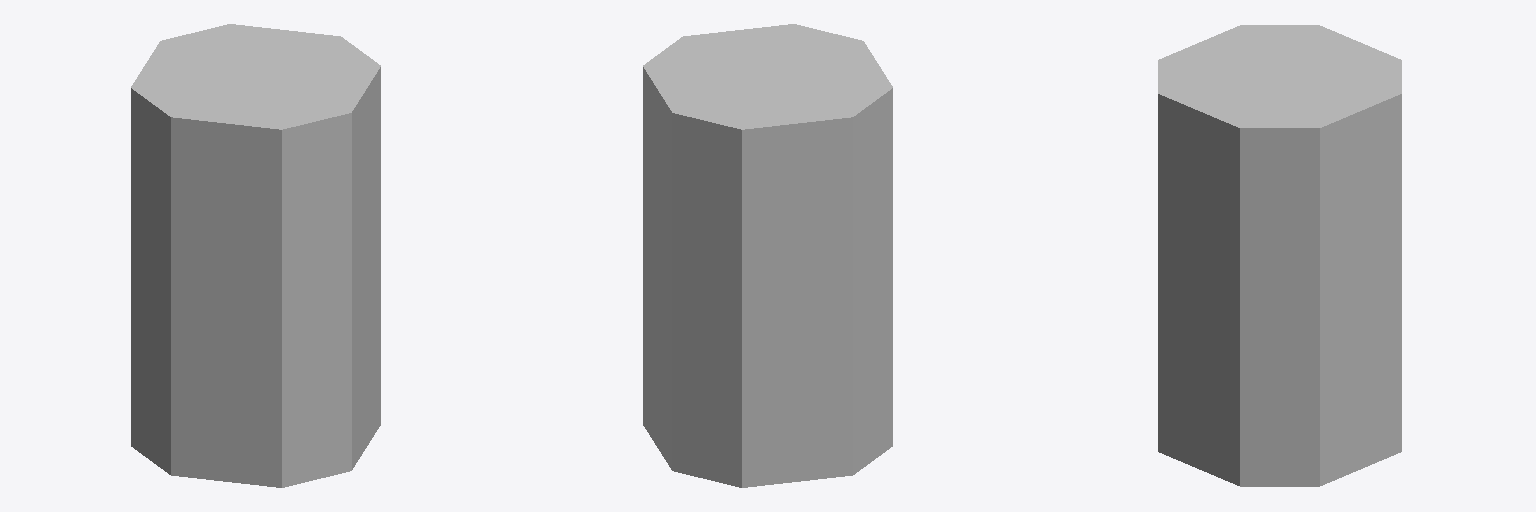
The model's file is log.obj.
The picture shows the model from 3 angles: view 1: azimuth 30°, elevation 25°; view 2: azimuth 150°, elevation 25°; view 3: azimuth 270°, elevation 25°; orthographic projection.
Visible parts, largest first — view 1: Cube.012; view 2: Cube.012; view 3: Cube.012.
Part boxes in pixels (x1,y1,x2,y2): Cube.012: (131,24,380,487); Cube.012: (643,24,892,487); Cube.012: (1158,25,1401,486).
Bounding box in the file's own units: 0.6878 × 1.12 × 0.6878.